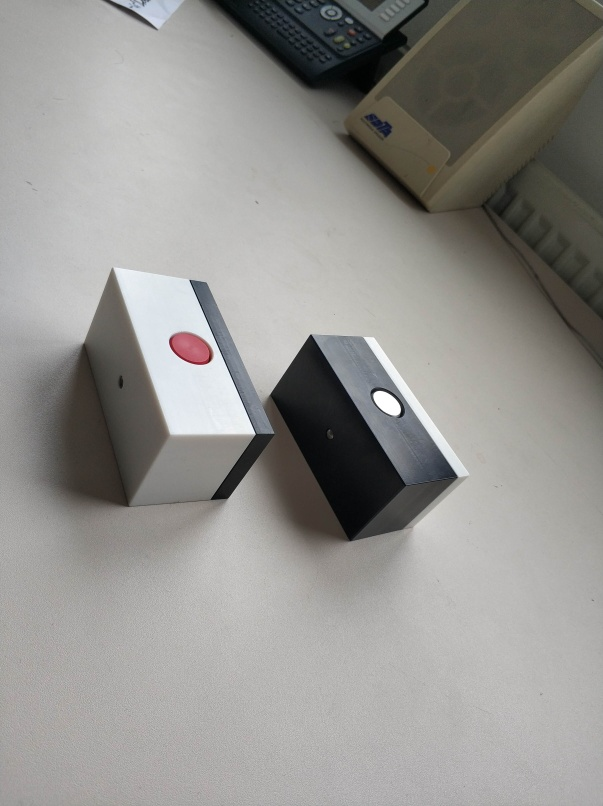black+white+red: (82, 266, 277, 508)
white+black+silver: (269, 332, 471, 542)
